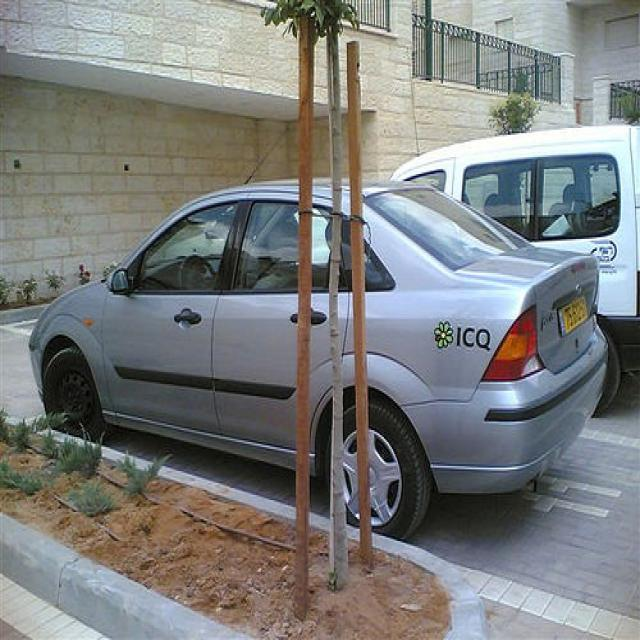Car: (29, 160, 607, 540), (382, 114, 638, 357)
